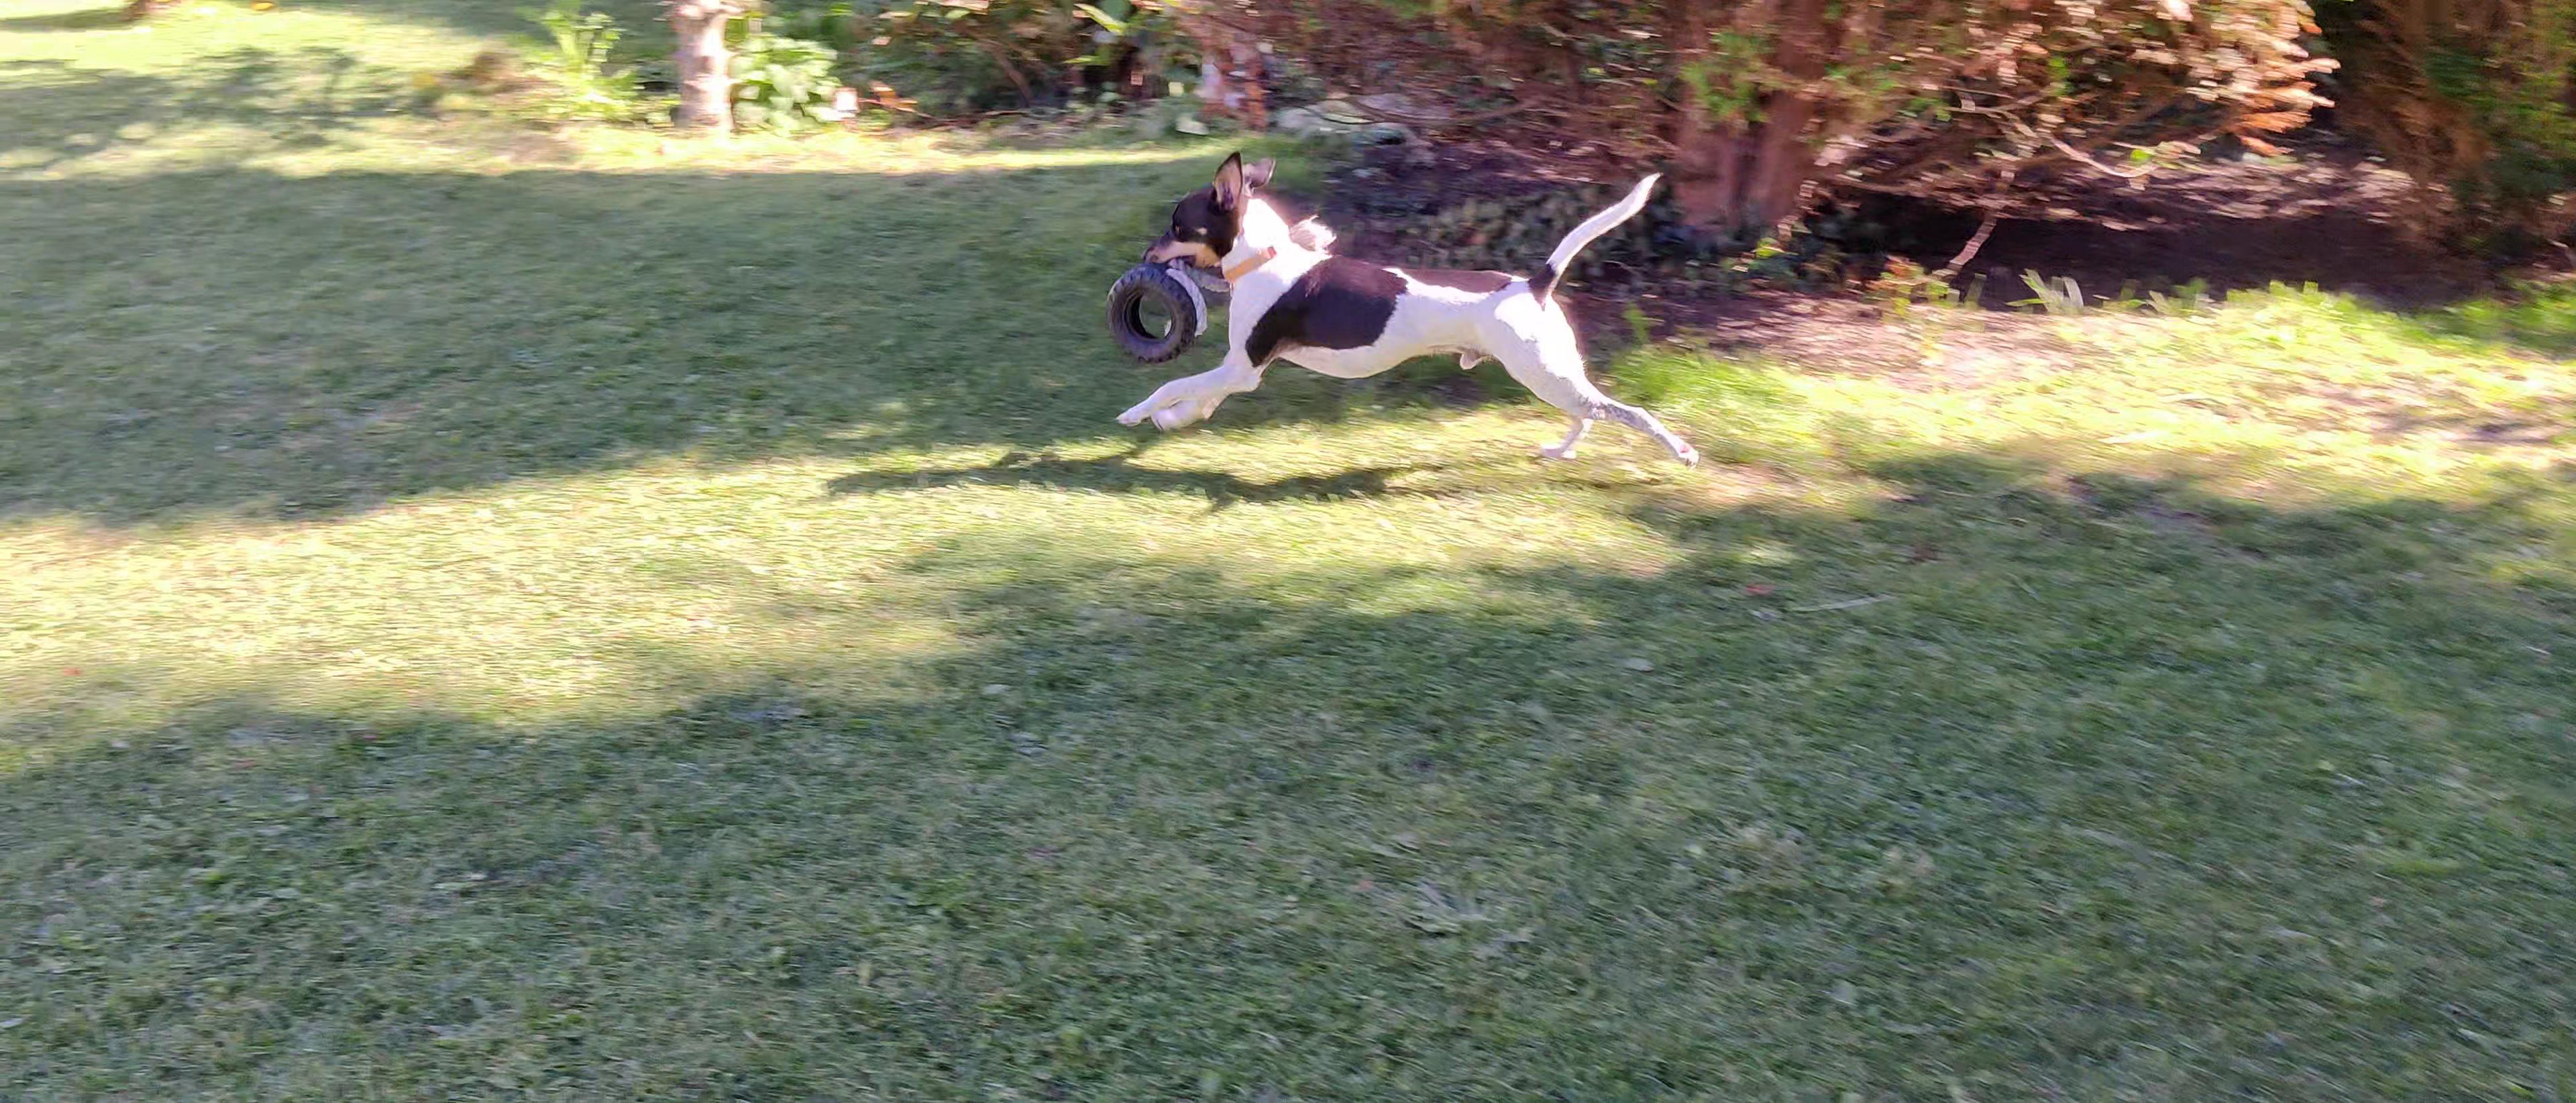Dog: (1109, 146, 1705, 473)
